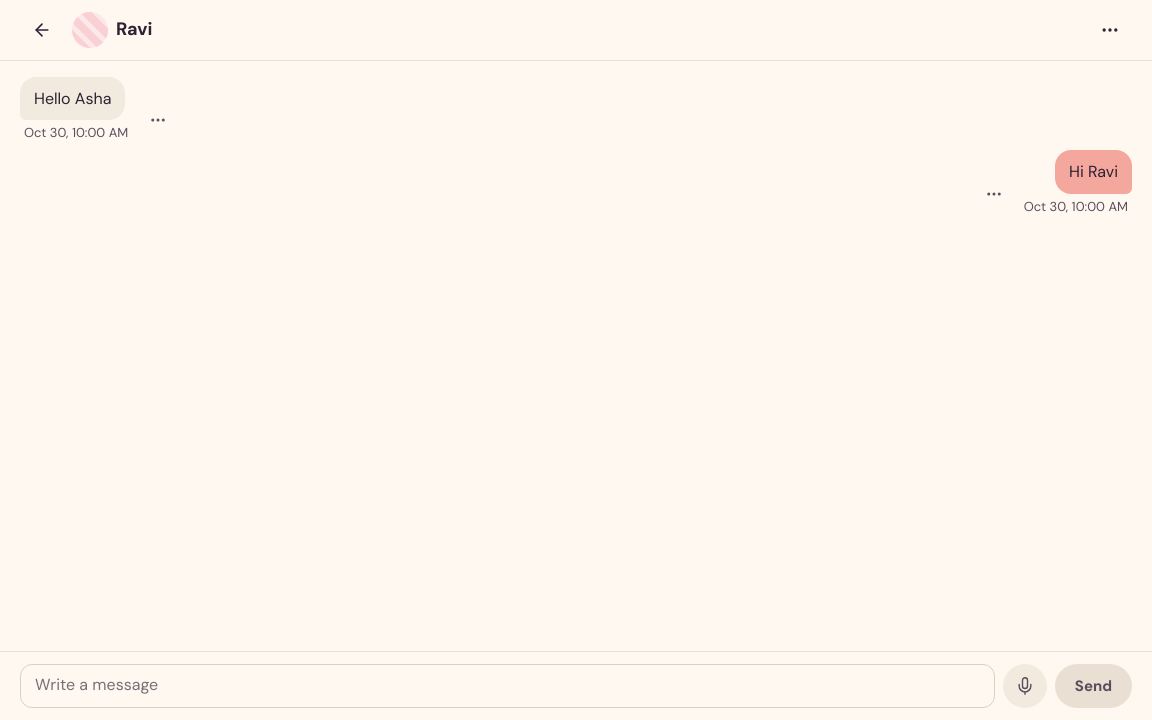
ConversationView › deletes your own message after a confirmation, leaving 'Message deleted'
Click the button named "More options for your message" at (994, 194), box x1=972 y1=172 x2=1016 y2=216
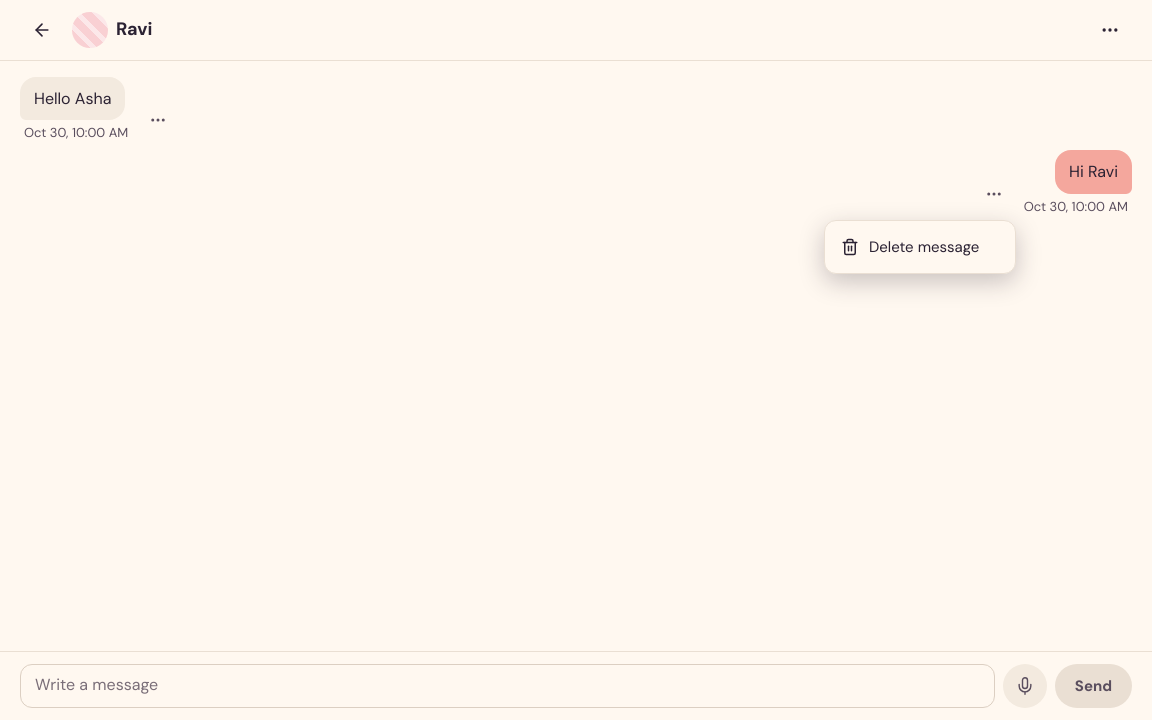
Click the menu item "Delete message" at (910, 247), box x1=841 y1=237 x2=979 y2=257
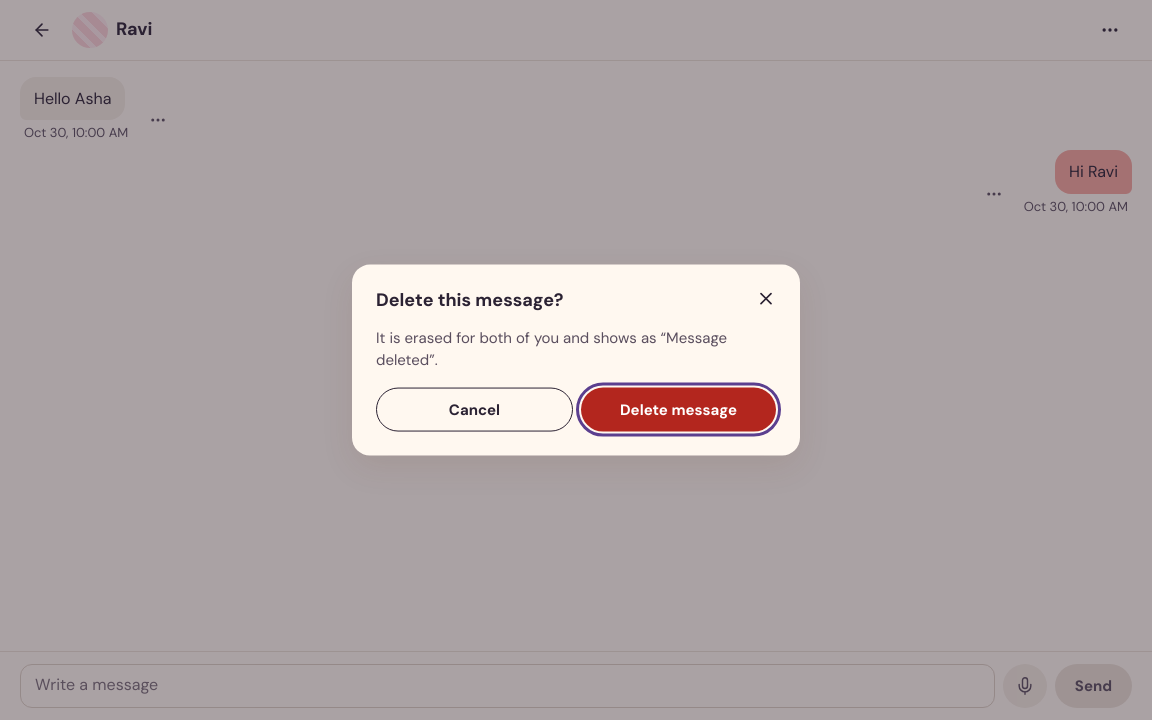
Click the button "Delete message" at (678, 409), box x1=581 y1=387 x2=776 y2=431
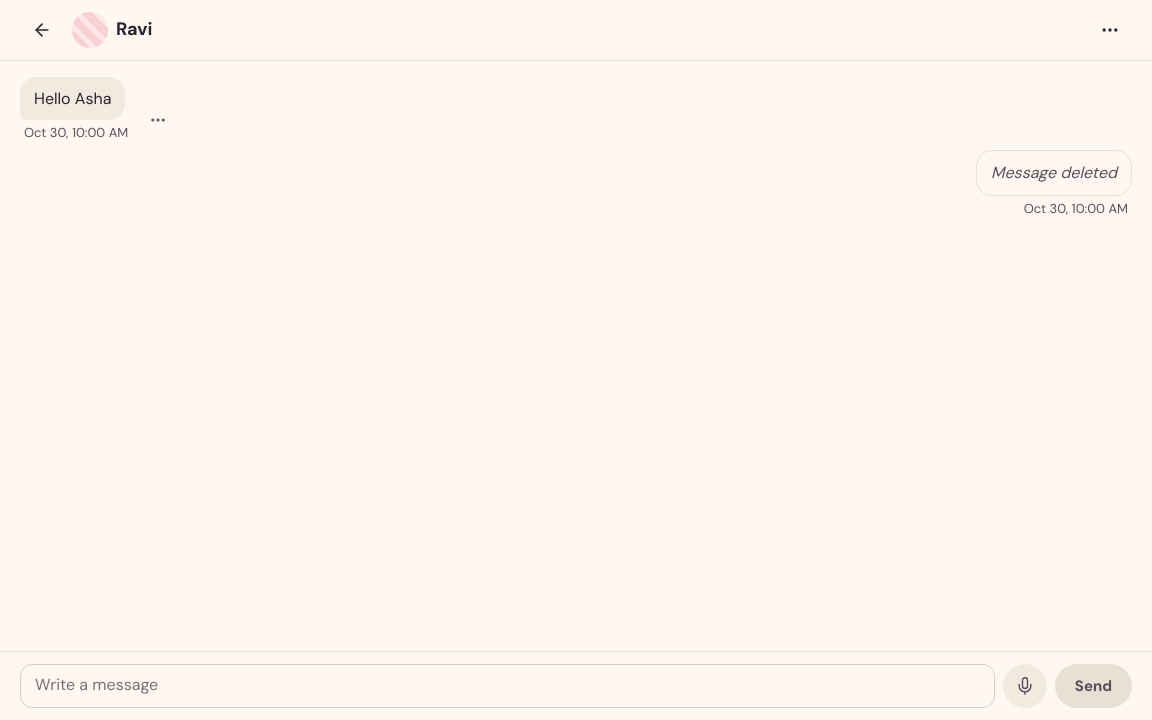
Check: the text "Message deleted" is shown, box x1=976 y1=150 x2=1132 y2=196
Check: the text "Hi Ravi" is gone
